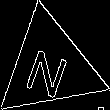N_N: (23, 36, 76, 97)
